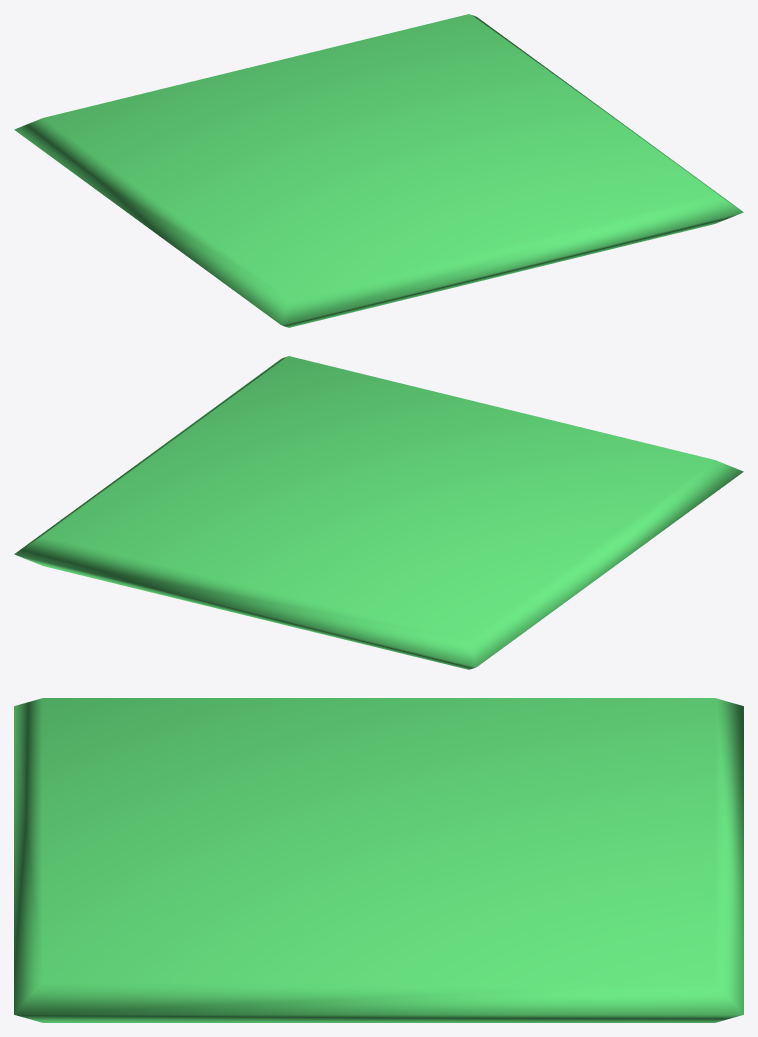
Rendered from piadina_olio_mid.fbx.
The picture shows the model from 3 angles, top to bottom: view 1: azimuth 30°, elevation 25°; view 2: azimuth 150°, elevation 25°; view 3: azimuth 270°, elevation 25°; orthographic projection. The views are drawn at different scales.
Visible parts, largest first — view 1: oliomid; view 2: oliomid; view 3: oliomid.
Part boxes in pixels (bbox=[...]): oliomid: bbox=[14, 14, 743, 327]; oliomid: bbox=[14, 356, 743, 669]; oliomid: bbox=[14, 698, 743, 1022].
Size of the model in its own units: 217 by 13.38 by 217.
